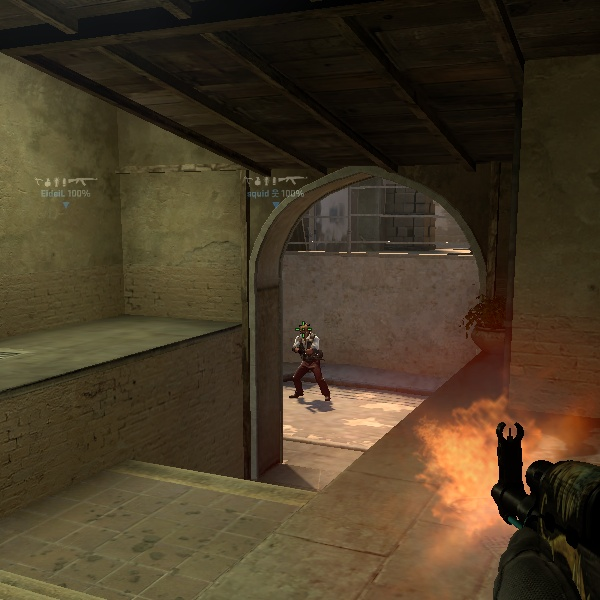t_body: (284, 318, 329, 405)
t_head: (297, 320, 315, 338)
